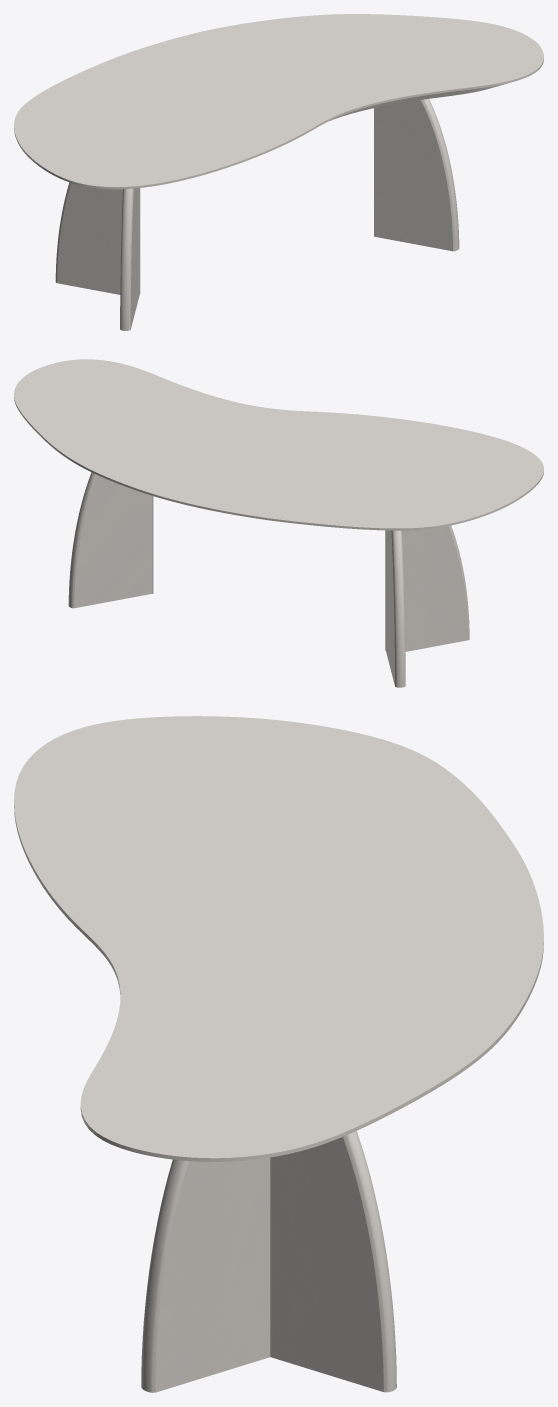
Rendered from pearlwhite_leaf1_facet_newtable2.glb.
The picture shows the model from 3 angles, top to bottom: view 1: azimuth 30°, elevation 25°; view 2: azimuth 150°, elevation 25°; view 3: azimuth 270°, elevation 25°; orthographic projection. The views are drawn at different scales.
Parts seen in each view (by area): view 1: facet_leaf1, newtable2_singleright2, newtable2_singleleft1, newtable2_singleright1; view 2: facet_leaf1, newtable2_singleleft2, newtable2_singleright1, newtable2_singleleft1; view 3: facet_leaf1, newtable2_singleleft2, newtable2_singleright2.
Boxes of the visible parts, x1,y1,x2,y2 form: facet_leaf1: [14, 14, 543, 189]; newtable2_singleright2: [374, 99, 459, 251]; newtable2_singleleft1: [55, 182, 140, 294]; newtable2_singleright1: [120, 188, 139, 330]; facet_leaf1: [14, 359, 543, 530]; newtable2_singleleft2: [68, 472, 152, 608]; newtable2_singleright1: [385, 525, 469, 651]; newtable2_singleleft1: [386, 530, 405, 687]; facet_leaf1: [14, 716, 543, 1161]; newtable2_singleleft2: [270, 1131, 396, 1392]; newtable2_singleright2: [141, 1157, 270, 1392].
Size of the model in its own units: 7.5 by 2.49 by 3.8.
1 material, 1 textured.
